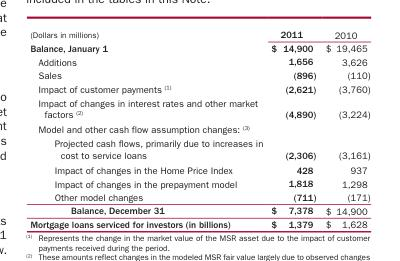table: (29, 28, 369, 229)
table column: (29, 28, 266, 229), (266, 28, 320, 229), (320, 28, 369, 229)
table column header: (29, 28, 369, 41)
table projected row header: (29, 121, 369, 136)
table row: (29, 95, 369, 121), (29, 136, 369, 162), (29, 121, 369, 136), (29, 54, 369, 68), (29, 81, 369, 95), (29, 162, 369, 176), (29, 176, 369, 190), (29, 203, 369, 217), (29, 28, 369, 41), (29, 41, 369, 54), (29, 68, 369, 81), (29, 190, 369, 203), (29, 217, 369, 229)
